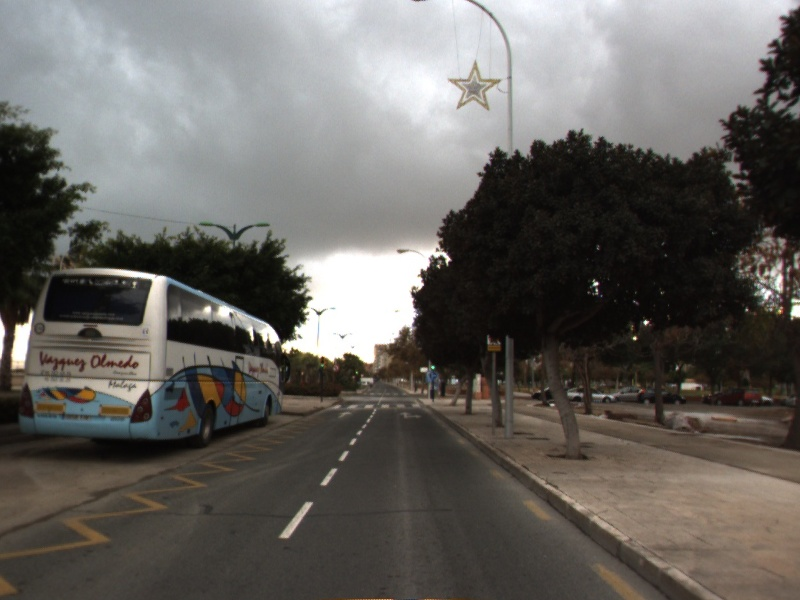STRAIGHT: (334, 410, 355, 420)
STRAIGHT_RIGHT: (397, 410, 425, 421)
